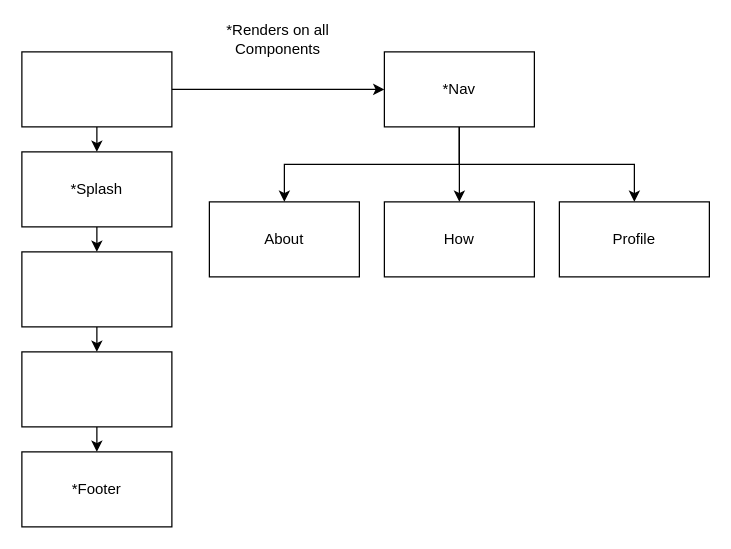
This 731x549 diagram has some shape labels left out. Here are the shapes that lost their labels. From the top down, the centre of each, then its label:
At (96,89): "App".
At (96,289): "Welcome".
At (96,389): "Intro".
